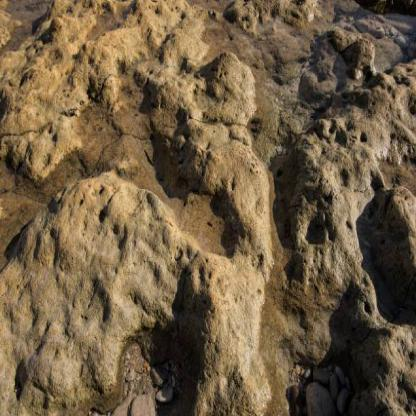Sedimentary_Limestone: (26, 174, 155, 415), (290, 109, 366, 303), (176, 114, 276, 247)
